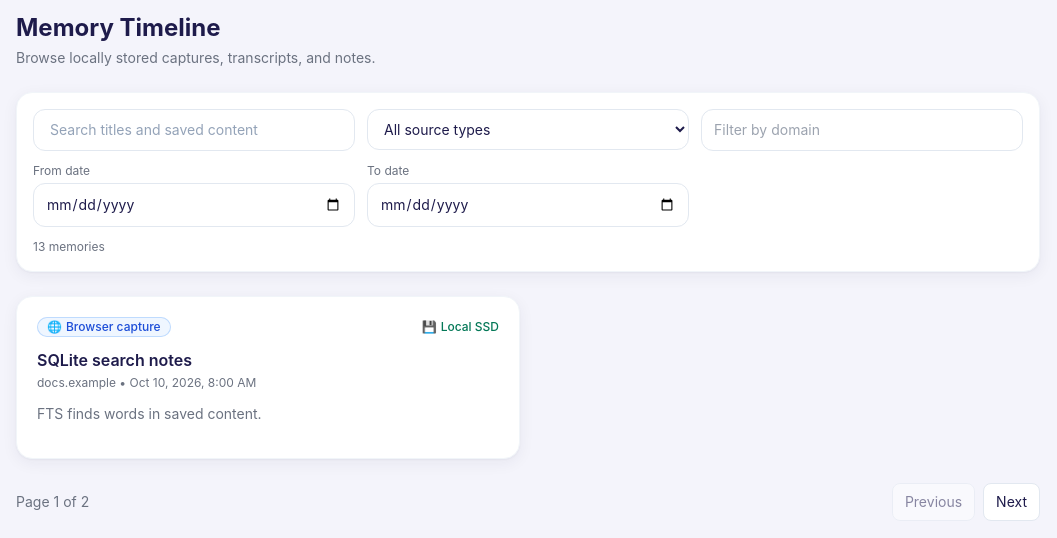
Test: Memory Timeline › requests the next page from the API
Expected: the heading "SQLite search notes" is shown, 37,350 -> 192,370
Click the button "Next": (1012, 502) 983,483 -> 1040,521
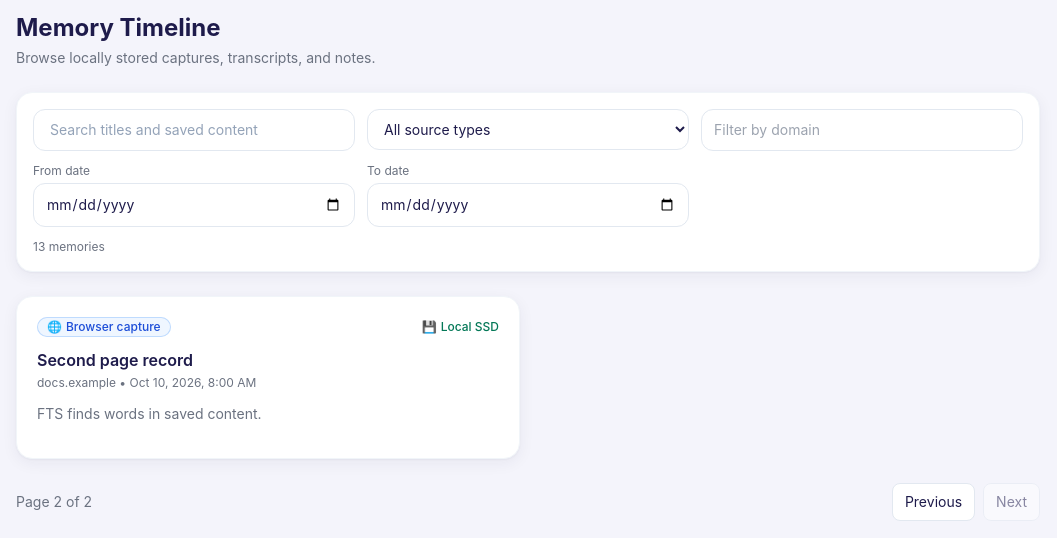
Expected: the heading "Second page record" is shown, 37,350 -> 193,370
